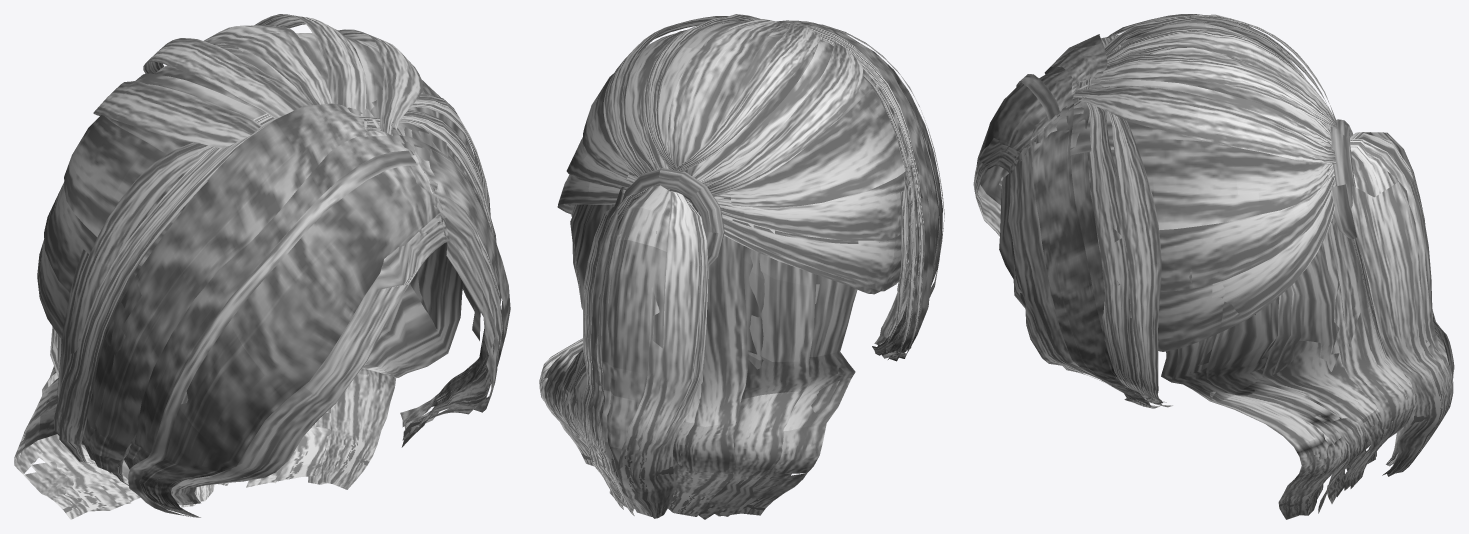
The model's file is daz_hair_halfup_princess.glb.
3 renders of one model, left to right at view 1: azimuth 30°, elevation 25°; view 2: azimuth 150°, elevation 25°; view 3: azimuth 270°, elevation 25°, orthographic. The views are drawn at different scales.
Visible parts, largest first — view 1: daz_hair_halfup_princess; view 2: daz_hair_halfup_princess; view 3: daz_hair_halfup_princess.
Boxes of the visible parts, box(x1,y1,x2,y2) form: daz_hair_halfup_princess: box(14, 14, 510, 519); daz_hair_halfup_princess: box(539, 14, 944, 519); daz_hair_halfup_princess: box(973, 14, 1454, 519).
Size of the model in its own units: 0.1998 by 0.2451 by 0.2454.
1 material, 1 textured.
